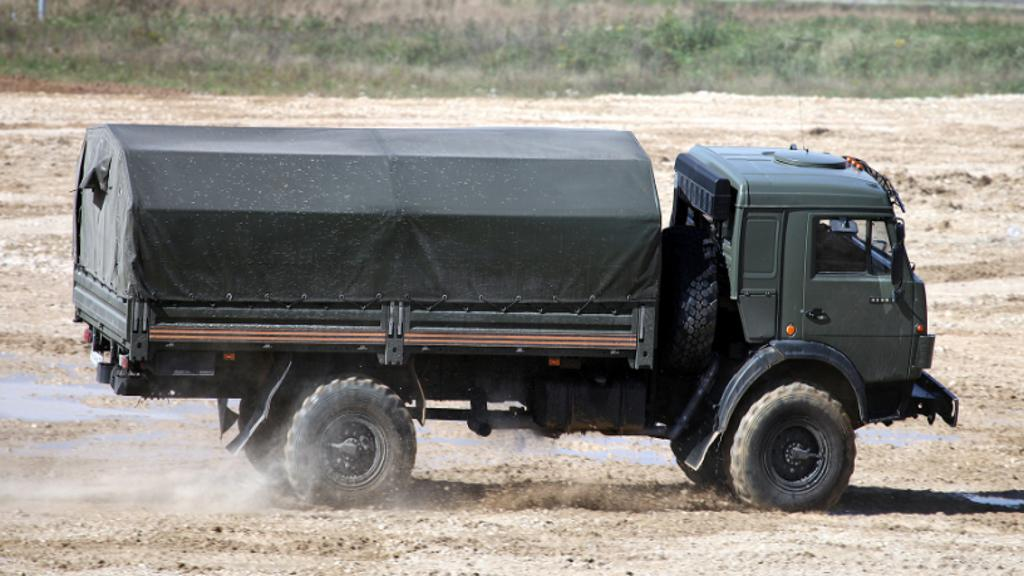TRUCK: (61, 121, 961, 518)
